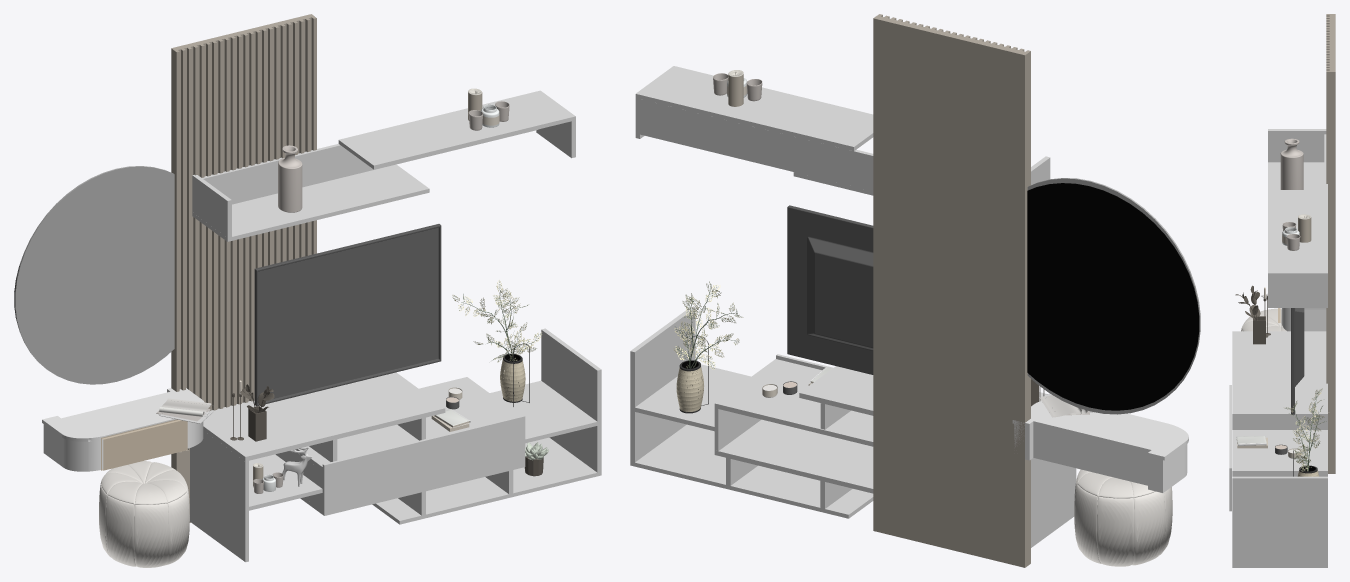
The model's file is tv_unit.glb.
The picture shows the model from 3 angles, left to right: view 1: azimuth 30°, elevation 25°; view 2: azimuth 150°, elevation 25°; view 3: azimuth 270°, elevation 25°; orthographic projection. The views are drawn at different scales.
Parts seen in each view (by area): view 1: AlphaB2B STANDARTTVSONOMA, Cylinder, master bedroom.018, master bedroom.1123, master bedroom.1074, master bedroom.1064, master bedroom.1068_M_1_walnut_wood_fine_medium_color_textur, master bedroom.017, master bedroom.1063, master bedroom.1126, master bedroom.1130, master bedroom.1128 (+22 smaller); view 2: master bedroom.1123, AlphaB2B STANDARTTVSONOMA, Cylinder.001, master bedroom.017, master bedroom.1074, master bedroom.1063, master bedroom.1064, Cylinder, master bedroom.029, master bedroom.030; view 3: AlphaB2B STANDARTTVSONOMA, master bedroom.1123, master bedroom.017, master bedroom.007, master bedroom.1146, master bedroom.1063, master bedroom.029, master bedroom.030, master bedroom.1074, master bedroom.1177, master bedroom.1201, master bedroom.1156 (+1 smaller).
Boxes of the visible parts, <box> form: AlphaB2B STANDARTTVSONOMA: <box>190,90,601,562</box>; Cylinder: <box>14,166,174,384</box>; master bedroom.018: <box>258,228,438,402</box>; master bedroom.1123: <box>171,14,314,522</box>; master bedroom.1074: <box>99,461,189,567</box>; master bedroom.1064: <box>42,388,204,441</box>; master bedroom.1068_M_1_walnut_wood_fine_medium_color_textur: <box>101,419,187,470</box>; master bedroom.017: <box>254,224,441,406</box>; master bedroom.1063: <box>42,389,203,471</box>; master bedroom.1126: <box>187,47,192,450</box>; master bedroom.1130: <box>212,41,217,410</box>; master bedroom.1128: <box>199,44,204,401</box>; master bedroom.1123: <box>873,15,1030,567</box>; AlphaB2B STANDARTTVSONOMA: <box>630,66,1076,547</box>; Cylinder.001: <box>1027,183,1199,410</box>; master bedroom.017: <box>787,205,873,374</box>; master bedroom.1074: <box>1074,469,1172,566</box>; master bedroom.1063: <box>1012,420,1187,492</box>; master bedroom.1064: <box>1025,401,1188,456</box>; Cylinder: <box>1027,178,1200,414</box>; master bedroom.029: <box>673,281,742,369</box>; master bedroom.030: <box>675,282,741,368</box>; AlphaB2B STANDARTTVSONOMA: <box>1229,129,1327,567</box>; master bedroom.1123: <box>1326,14,1335,473</box>; master bedroom.017: <box>1291,308,1304,414</box>; master bedroom.007: <box>1280,138,1303,189</box>; master bedroom.1146: <box>1326,70,1329,411</box>; master bedroom.1063: <box>1281,308,1326,331</box>; master bedroom.029: <box>1284,388,1324,471</box>; master bedroom.030: <box>1285,389,1326,471</box>; master bedroom.1074: <box>1241,308,1286,331</box>; master bedroom.1177: <box>1253,316,1265,344</box>; master bedroom.1201: <box>1298,217,1311,242</box>; master bedroom.1156: <box>1236,436,1266,443</box>.
Size of the model in its own units: 1.77 by 1.51 by 0.3629.
